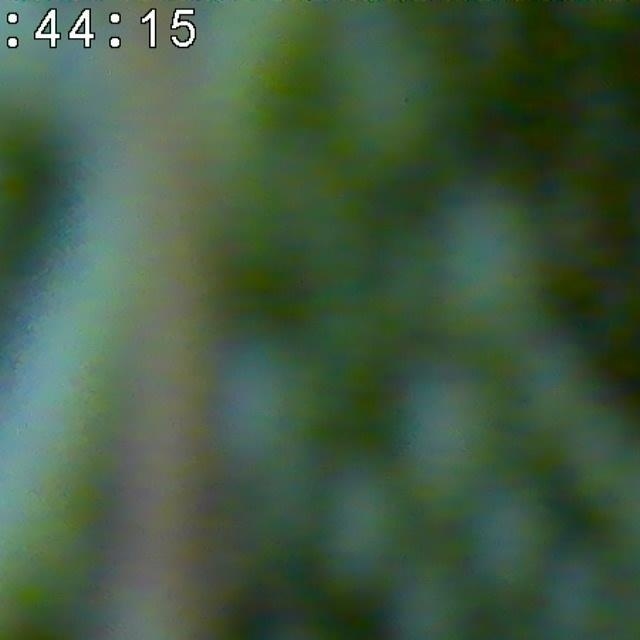SeaGrape: (392, 375, 498, 507), (453, 480, 567, 600), (310, 464, 420, 583)
